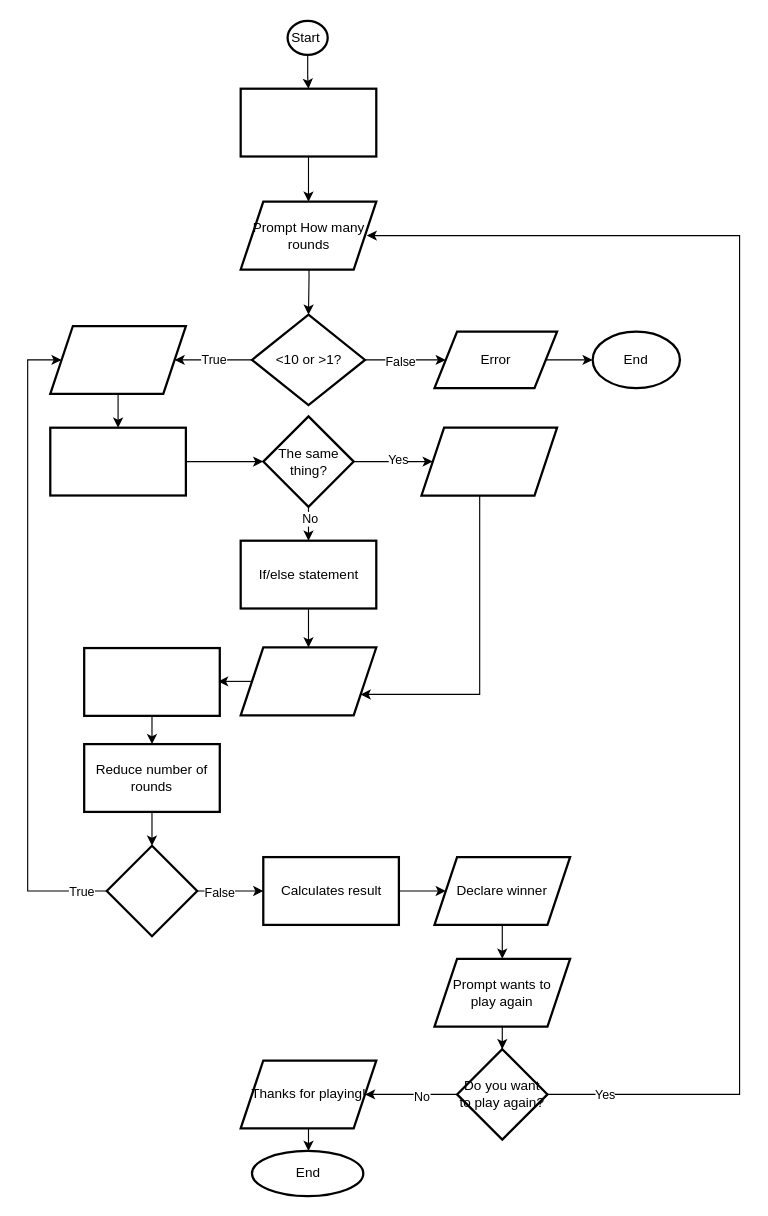
Some shapes in this 768 by 1216 pixel diagram are drawn without their labels. Here are the shapes that lost their labels. From the top down, the centre of each, then its label:
At point (308, 122): "Declare variables".
At point (117, 359): "Prompt user for choice".
At point (117, 461): "Random choose 1,2,3".
At point (489, 461): "Tie".
At point (151, 681): "Update variables ties, user win, computer win.".
At point (308, 681): "Show Result".
At point (151, 890): "Rounds > 1".
